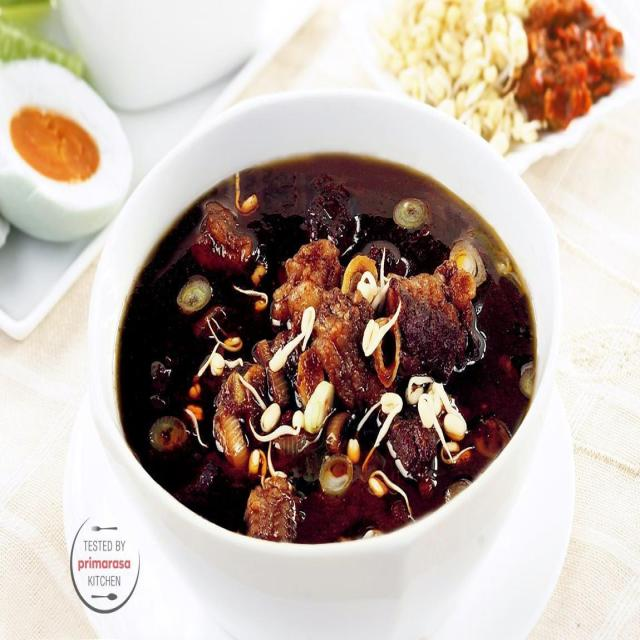Rawon: (124, 165, 526, 522)
